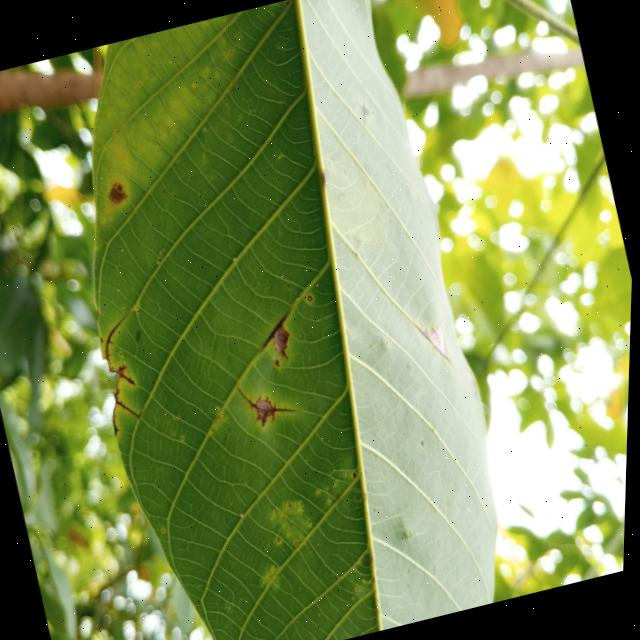Colletotrichum: (308, 292, 315, 300)
Corynespora: (240, 374, 301, 429), (258, 310, 303, 362), (99, 311, 141, 358), (118, 395, 143, 422), (117, 360, 139, 388)
Leaf-Blight: (108, 180, 128, 203)
